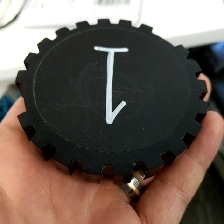gear: (13, 16, 209, 186)
missing: (138, 22, 189, 59), (14, 68, 37, 130)
